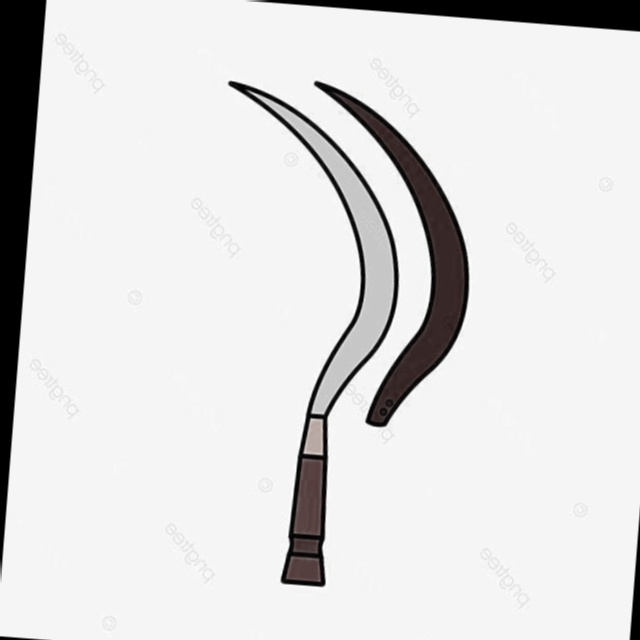Sharp-Object: (178, 56, 433, 602)
